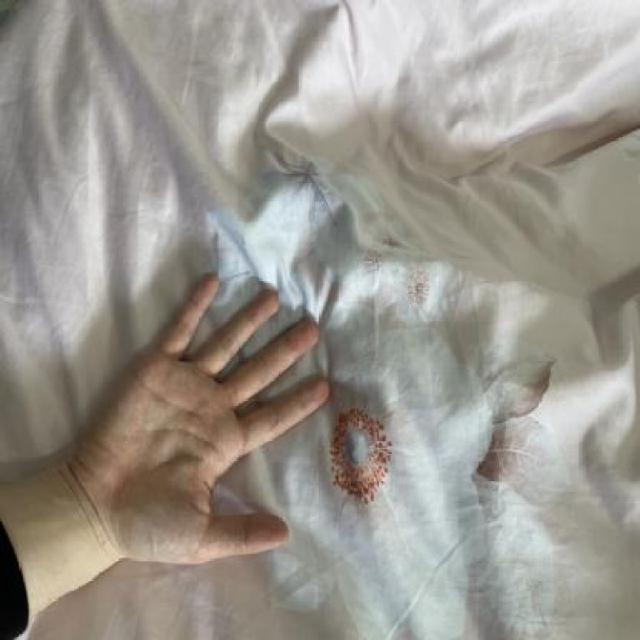no_glove: (72, 252, 338, 573)
